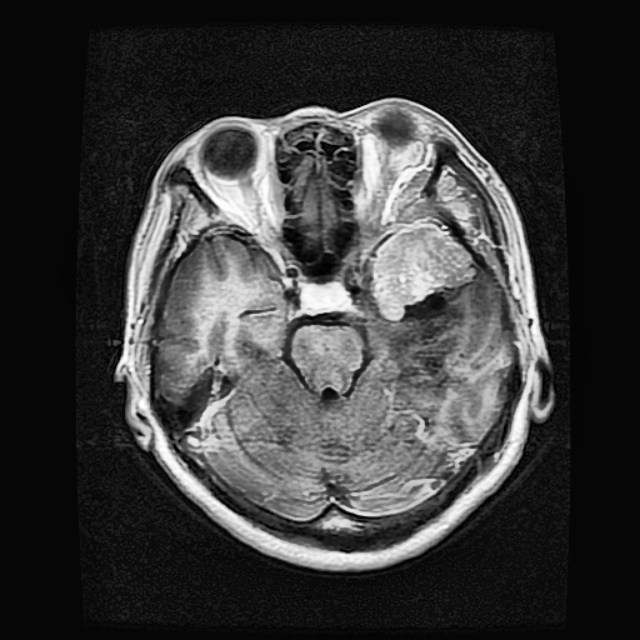Pituitary: (372, 169, 487, 322)
